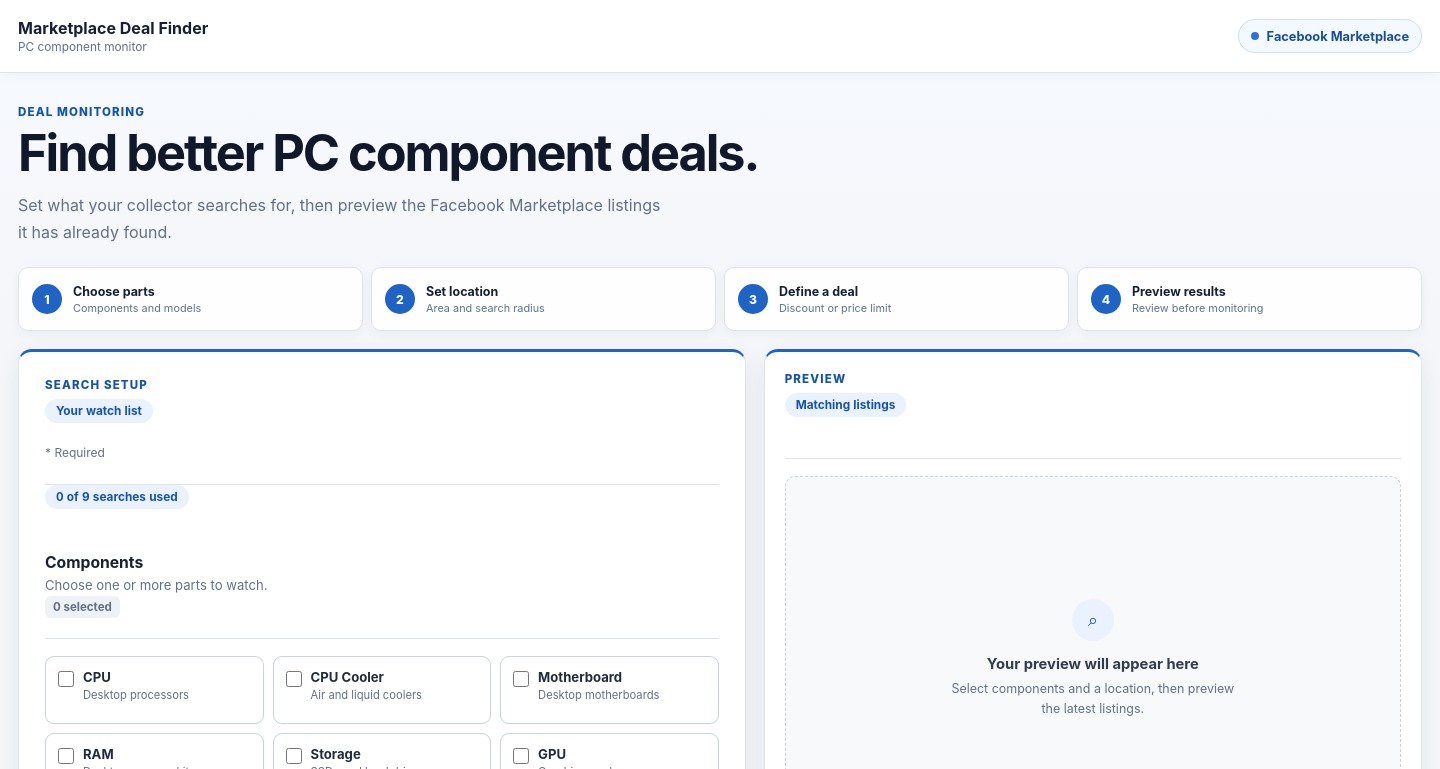
Test: the control panel › A-first-click: ticking one model of an all-models type reads 1 of 9, not 67 of 9
Step 1. Click the checkbox named "GPU:" → [521, 756], box [513,748,529,764]
(page scrolled)
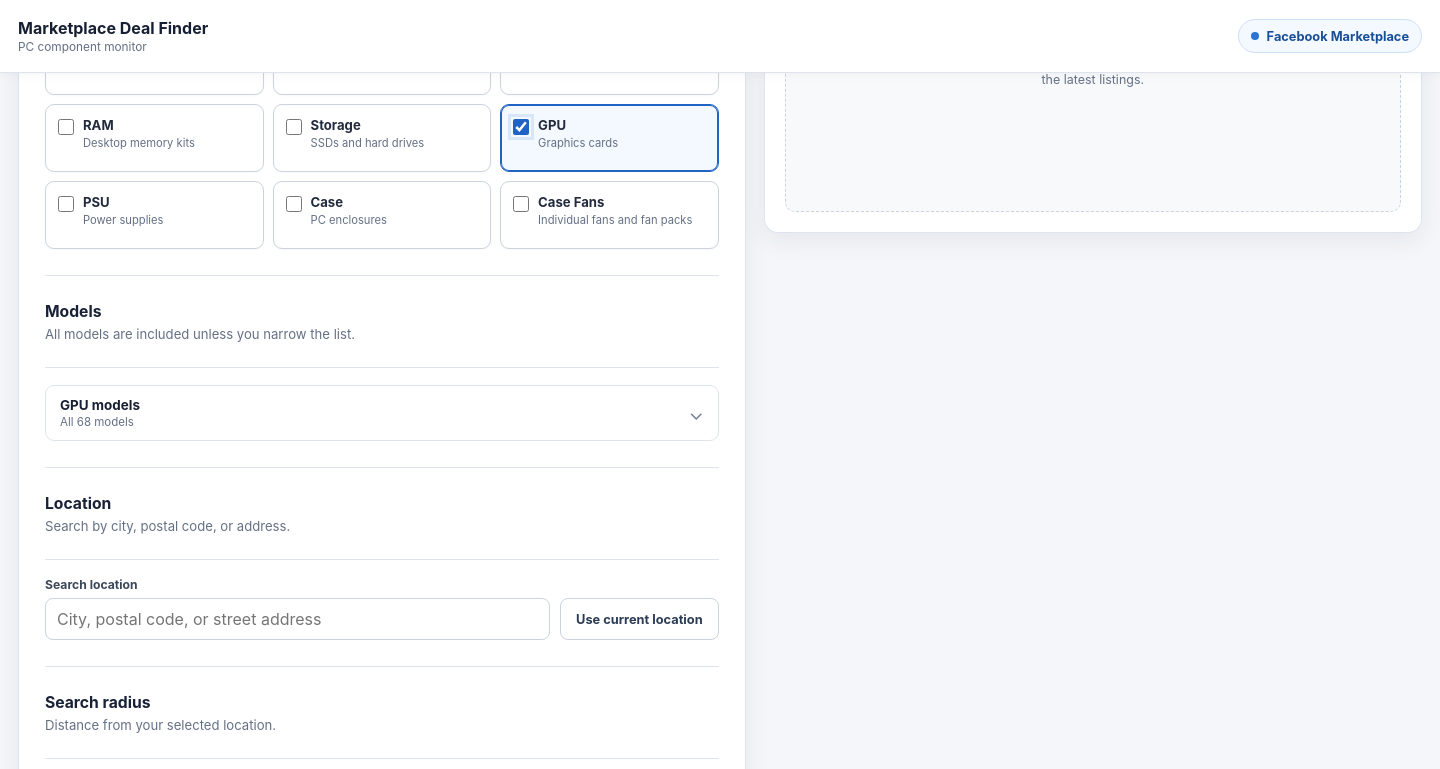
Step 2. Click the text "GPU models" → [100, 405], box [60,397,140,413]
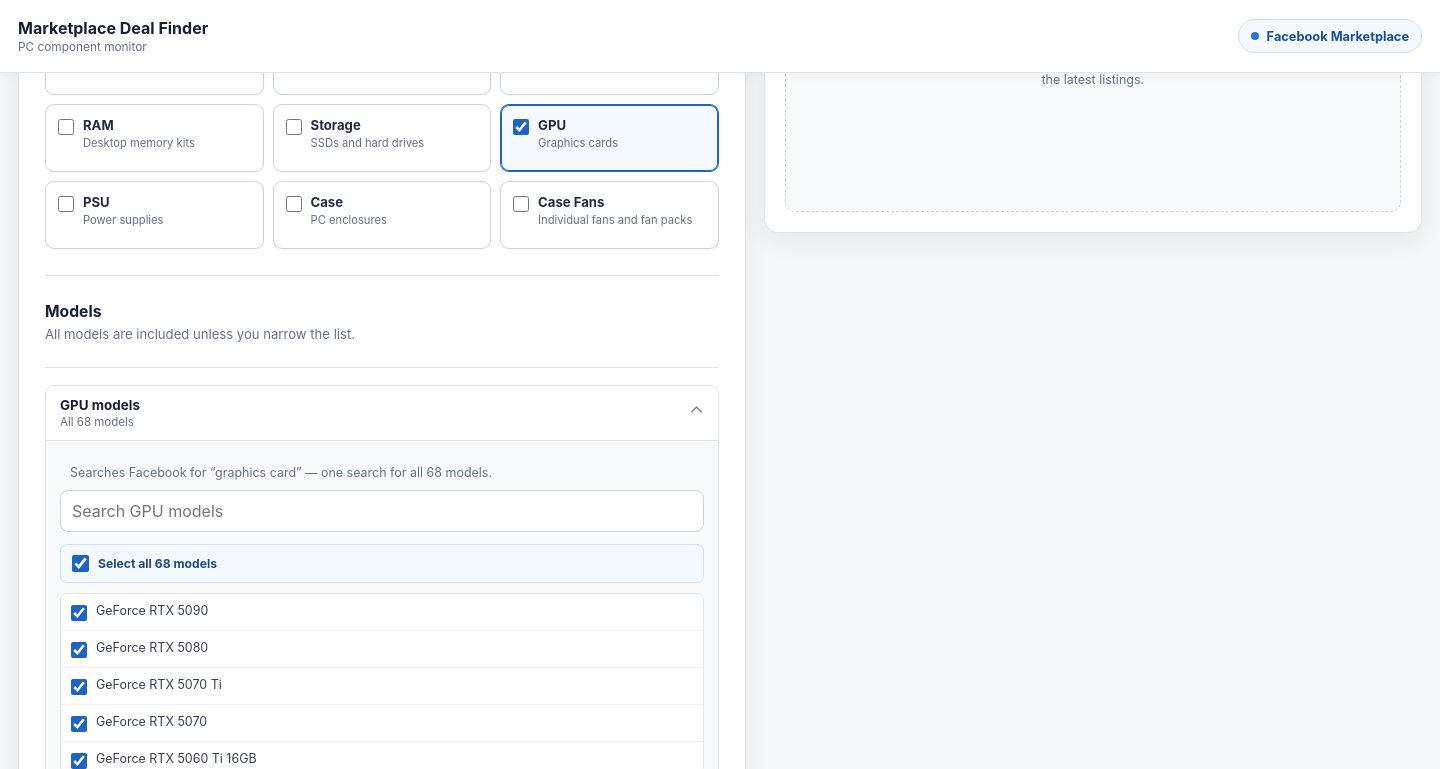
Step 3. Click the checkbox labelled "GeForce RTX 5090" → [79, 613], box [71,605,87,621]
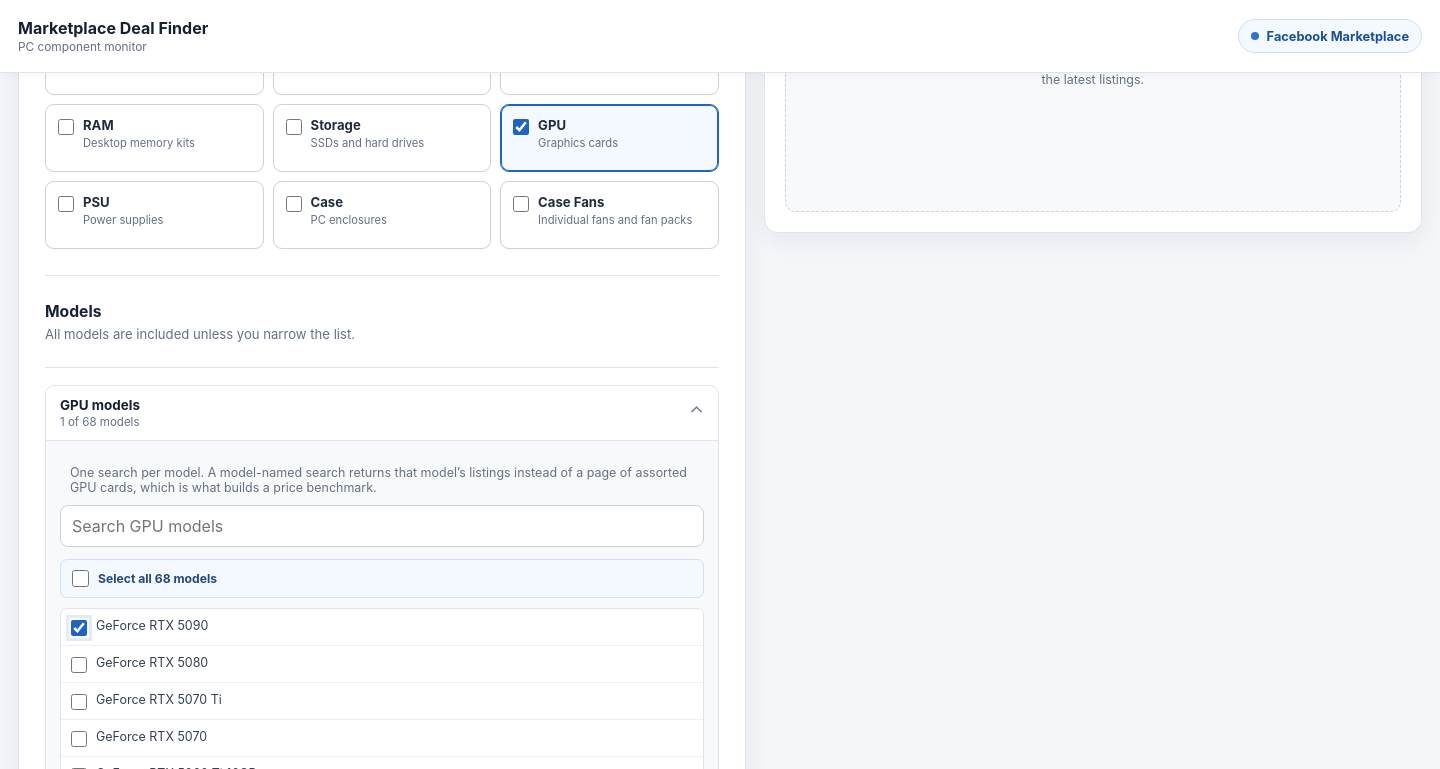
Expected: the text "1 of 68 models" is shown, [60,415,140,429]
